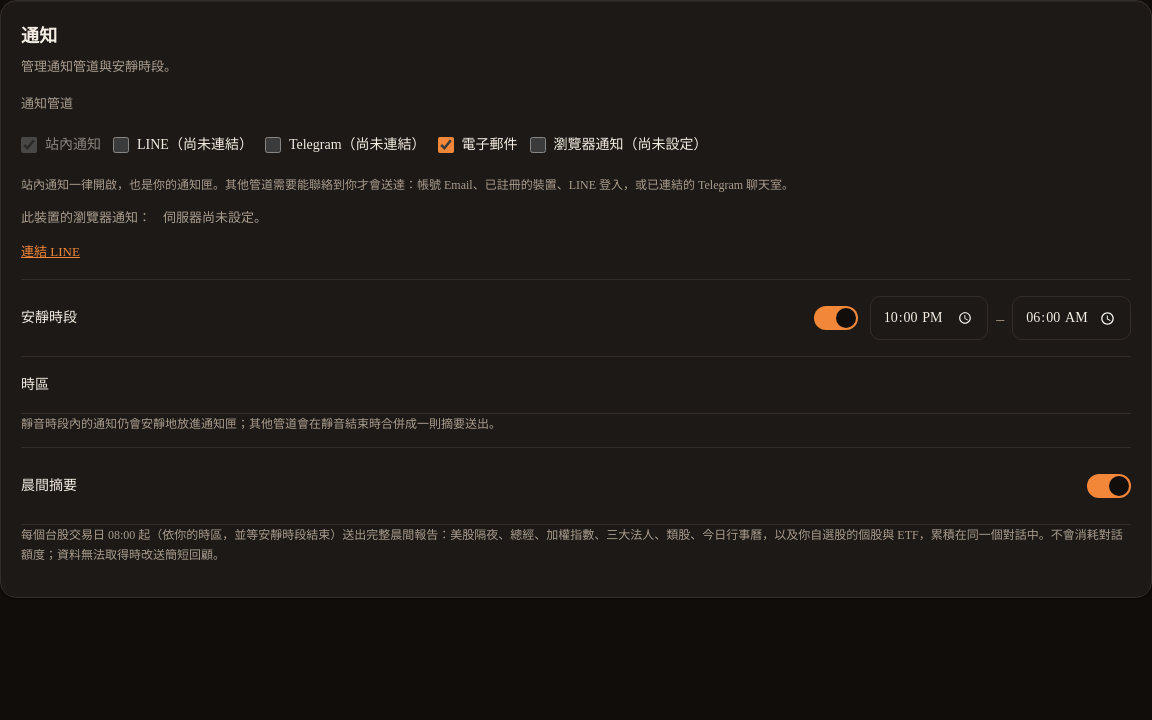
Test: NotificationsPanel actions › starts a LINE link, shows the code and the add-friend link
What coordinates should you click on to do the following:
click the button "連結 LINE"
I would click on:
 (50, 252)
Its box is [21,241,80,263].
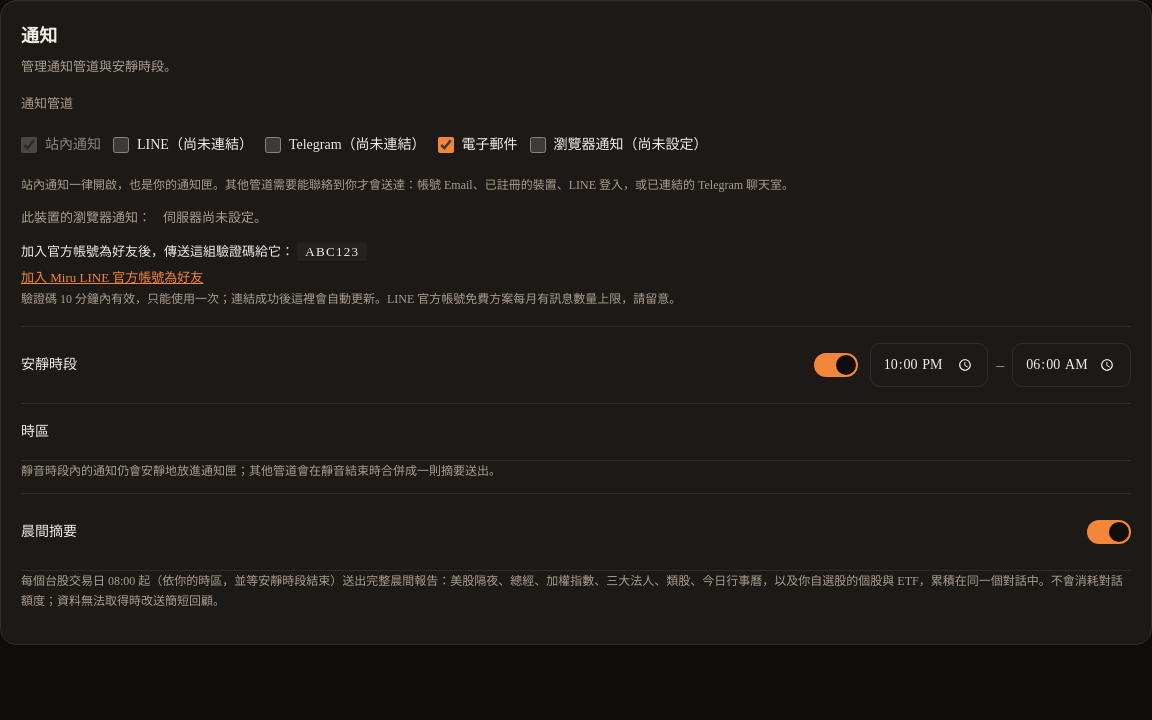
Expected: the text "ABC123" is shown, [297,242,367,261]
Expected: the link "加入 Miru LINE 官方帳號為好友" is shown, [21,270,203,285]
Expected: the text "驗證碼 10 分鐘內有效，只能使用一次；連結成功後這裡會自動更新。LINE 官方帳號免費方案每月有訊息數量上限，請留意。" is shown, [21,292,681,306]
